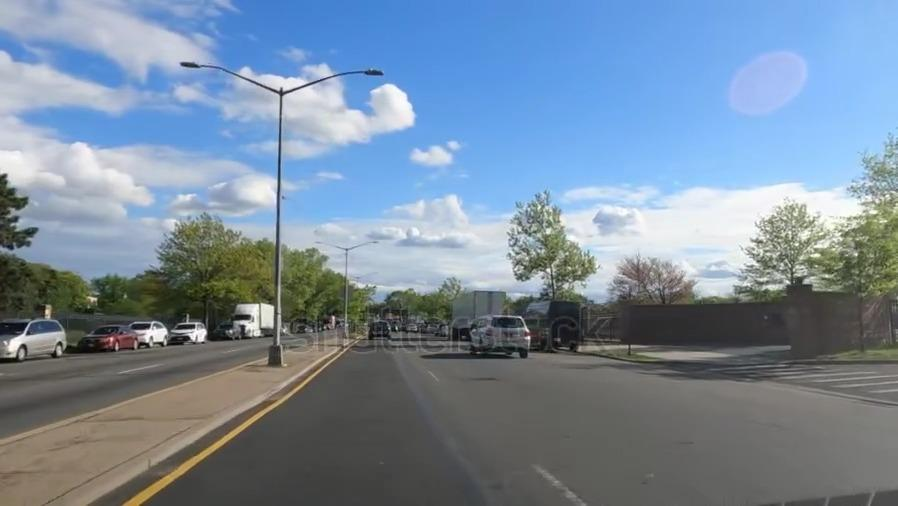car: (1, 319, 67, 364), (468, 314, 530, 360), (75, 325, 135, 351), (132, 321, 170, 350), (172, 320, 204, 345), (211, 324, 242, 344), (370, 319, 390, 341)
pedestrian: (686, 357, 898, 403)
truck: (447, 294, 509, 339), (232, 301, 275, 341)
van: (524, 301, 583, 352)
